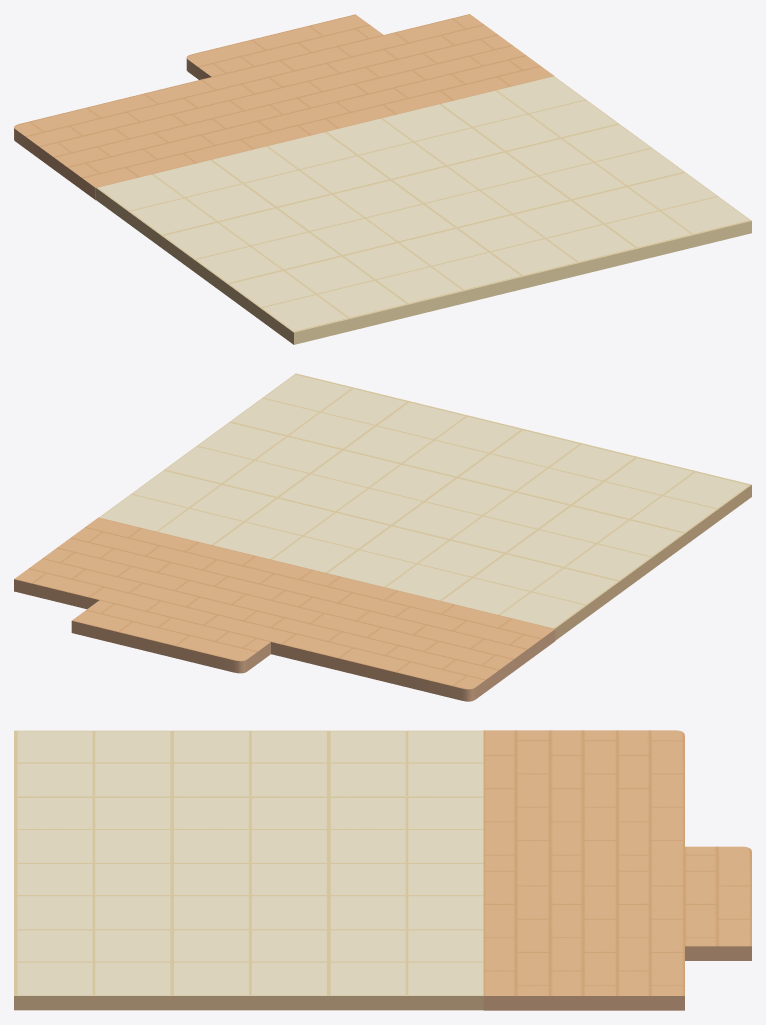
File: Floor.fbx
3 renders of one model, top to bottom at view 1: azimuth 30°, elevation 25°; view 2: azimuth 150°, elevation 25°; view 3: azimuth 270°, elevation 25°, orthographic. The views are drawn at different scales.
Visible parts, largest first — view 1: Floor; view 2: Floor; view 3: Floor.
Boxes of the visible parts, x1,y1,x2,y2 form: Floor: (14, 14, 751, 344); Floor: (14, 373, 751, 701); Floor: (14, 730, 751, 1010).
Bounding box in the file's own units: 923 × 23.62 × 1083.
